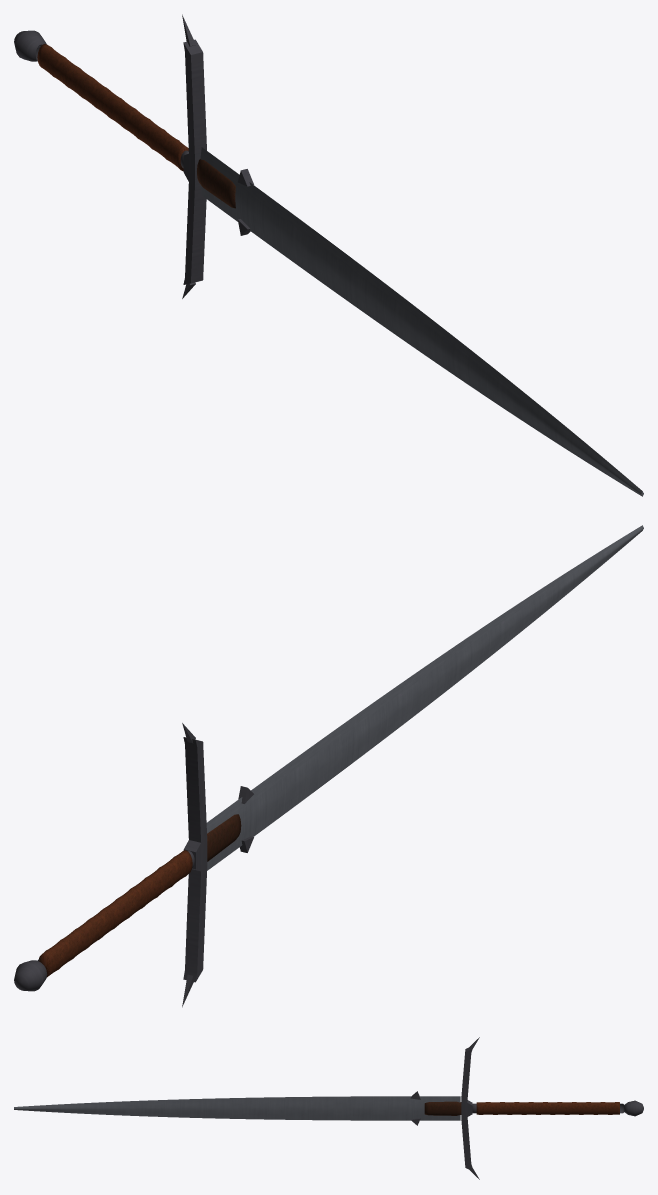
Rendered from weapon_greatsword.glb.
The picture shows the model from 3 angles, top to bottom: view 1: azimuth 30°, elevation 25°; view 2: azimuth 150°, elevation 25°; view 3: azimuth 270°, elevation 25°; orthographic projection. The views are drawn at different scales.
Visible parts, largest first — view 1: greatsword; view 2: greatsword; view 3: greatsword.
Part boxes in pixels (x1,y1,x2,y2): greatsword: (14,14,643,496); greatsword: (14,525,643,1007); greatsword: (14,1037,643,1179).
Size of the model in its own units: 0.04 by 0.4 by 1.58.
Materials: 4 (4 with a texture image).
